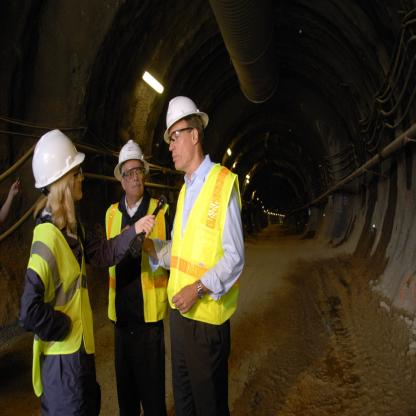Helmet: (26, 132, 84, 223)
